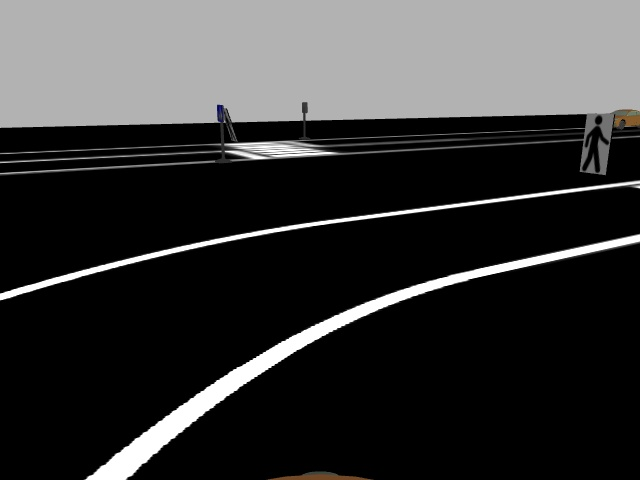pedestrian: (580, 110, 612, 174)
